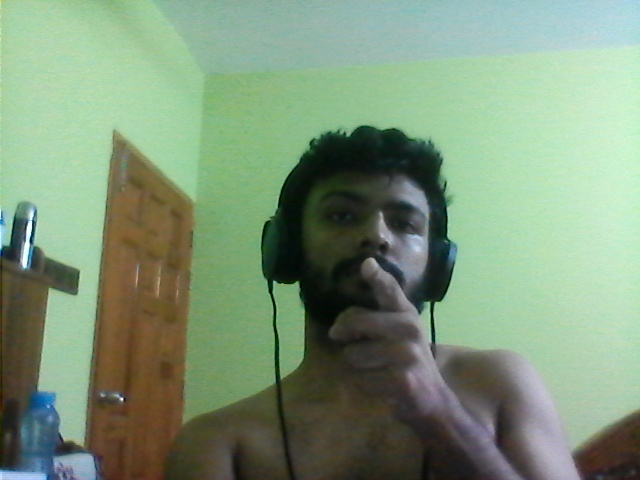You: (326, 257, 441, 434)
